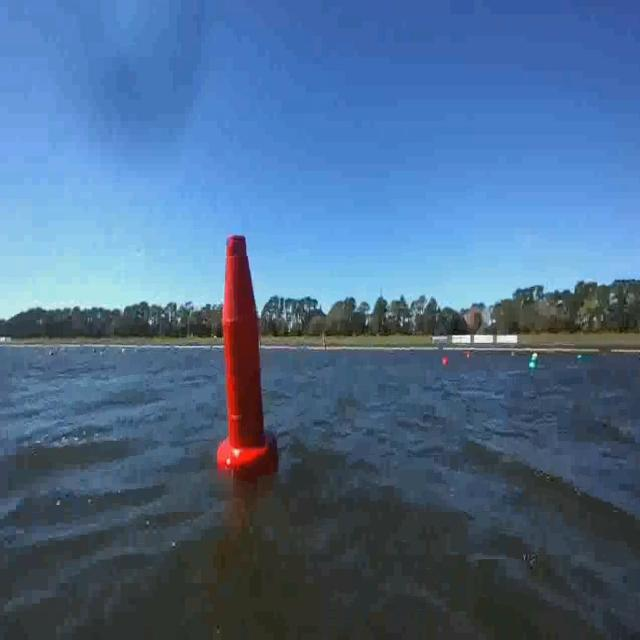green-buoy: (528, 354, 538, 375)
red-buoy: (439, 352, 451, 369)
red-column-buoy: (217, 230, 275, 477)
